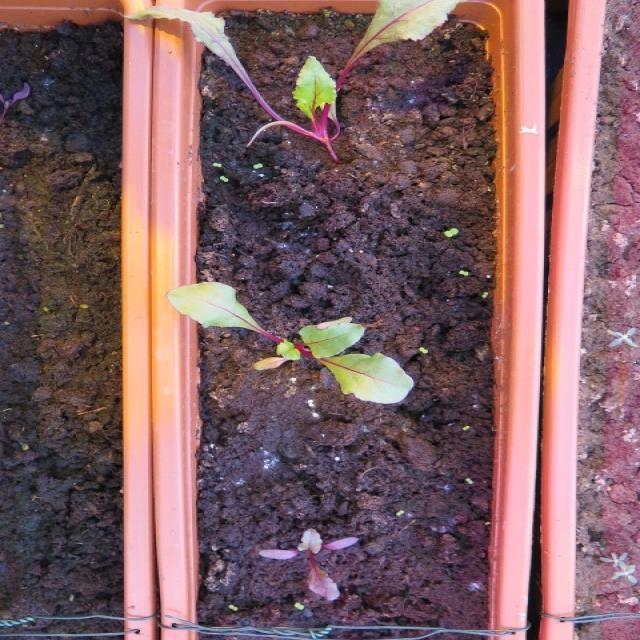weed: (439, 224, 460, 240), (473, 287, 491, 304), (288, 598, 307, 613), (223, 598, 240, 614), (415, 342, 429, 356), (250, 159, 266, 171), (460, 473, 473, 487), (457, 421, 472, 433), (392, 505, 405, 518), (454, 265, 469, 276), (206, 159, 222, 168), (215, 173, 228, 184)
